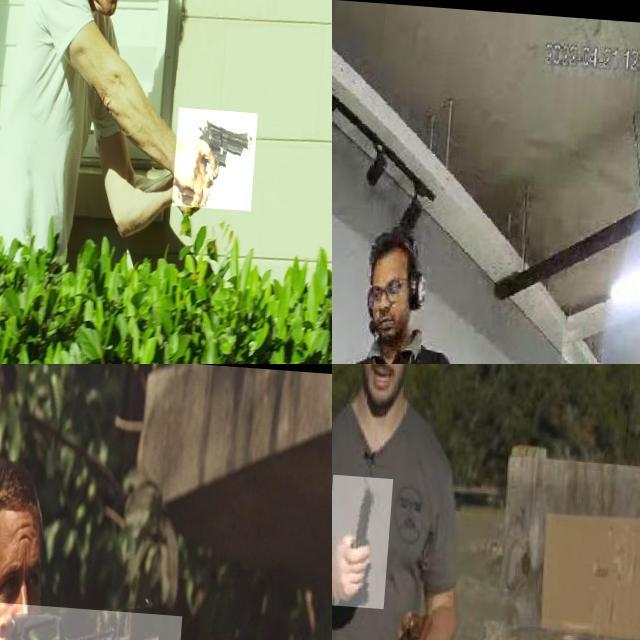-: (332, 470, 397, 604)
gun-knife-thesis - v11 Yolov5 augmented: (178, 104, 264, 206)
